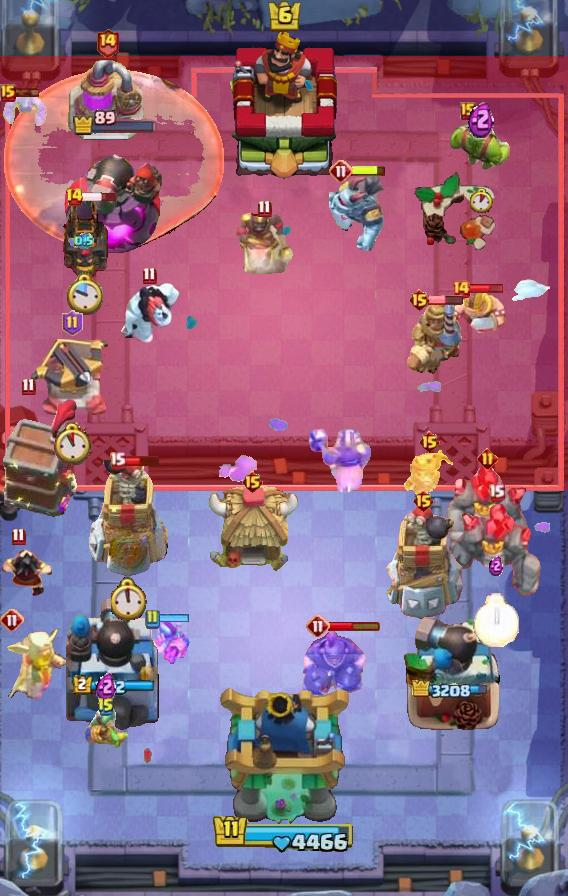archer-evolution: (57, 196, 111, 278)
barbarian: (0, 90, 52, 128)
bomber-evolution: (403, 448, 455, 504)
cannoneer-tower: (447, 500, 545, 602), (444, 464, 530, 552)
clock: (212, 813, 356, 855)
dart-goblin: (0, 399, 78, 519)
electro-spirit: (468, 98, 494, 137), (96, 671, 116, 701), (74, 232, 94, 250), (489, 555, 503, 576)
elixir: (473, 593, 519, 647), (51, 422, 93, 466), (65, 272, 103, 316), (111, 577, 148, 620), (471, 187, 494, 212)
elixir-golem-small: (329, 176, 387, 254)
emote: (327, 620, 380, 632), (123, 454, 161, 467), (351, 163, 387, 176), (81, 191, 118, 203), (428, 294, 464, 306), (4, 87, 39, 98), (469, 283, 504, 294), (157, 612, 191, 623)
flying-machine: (449, 114, 513, 172)
freeze: (301, 426, 373, 496), (233, 209, 295, 277)
giant-snowball: (143, 620, 191, 672), (81, 705, 131, 749)
goblin-giant: (444, 285, 506, 333)
king-tower: (216, 684, 352, 826), (222, 31, 346, 181)
lava-pup: (31, 339, 113, 419)
lumberjack: (0, 547, 54, 599)
pekka: (68, 60, 146, 142)
phoenix-egg: (2, 69, 225, 253)
poison: (0, 620, 86, 706)
prince: (205, 484, 299, 574)
rage: (117, 281, 181, 347)
ram-rider: (402, 298, 466, 376)
royal-guardian: (300, 627, 370, 701)
selected: (71, 109, 156, 136), (72, 675, 155, 697), (412, 680, 494, 702)
text: (96, 27, 121, 57), (329, 159, 353, 183), (0, 608, 24, 632), (306, 614, 330, 638), (409, 288, 432, 312), (418, 430, 441, 454), (241, 470, 264, 494), (413, 489, 436, 513), (62, 310, 83, 336), (477, 448, 499, 469), (451, 279, 471, 299), (65, 187, 84, 207), (97, 697, 115, 717), (144, 609, 160, 629), (109, 451, 126, 469), (487, 483, 504, 501), (0, 84, 16, 102), (460, 102, 476, 120), (143, 267, 158, 286), (21, 377, 36, 396), (257, 199, 272, 217), (11, 526, 25, 545)
tower-bar: (66, 595, 162, 731), (402, 615, 504, 731), (64, 138, 164, 256)
zappy: (379, 505, 469, 621), (87, 456, 172, 578)
